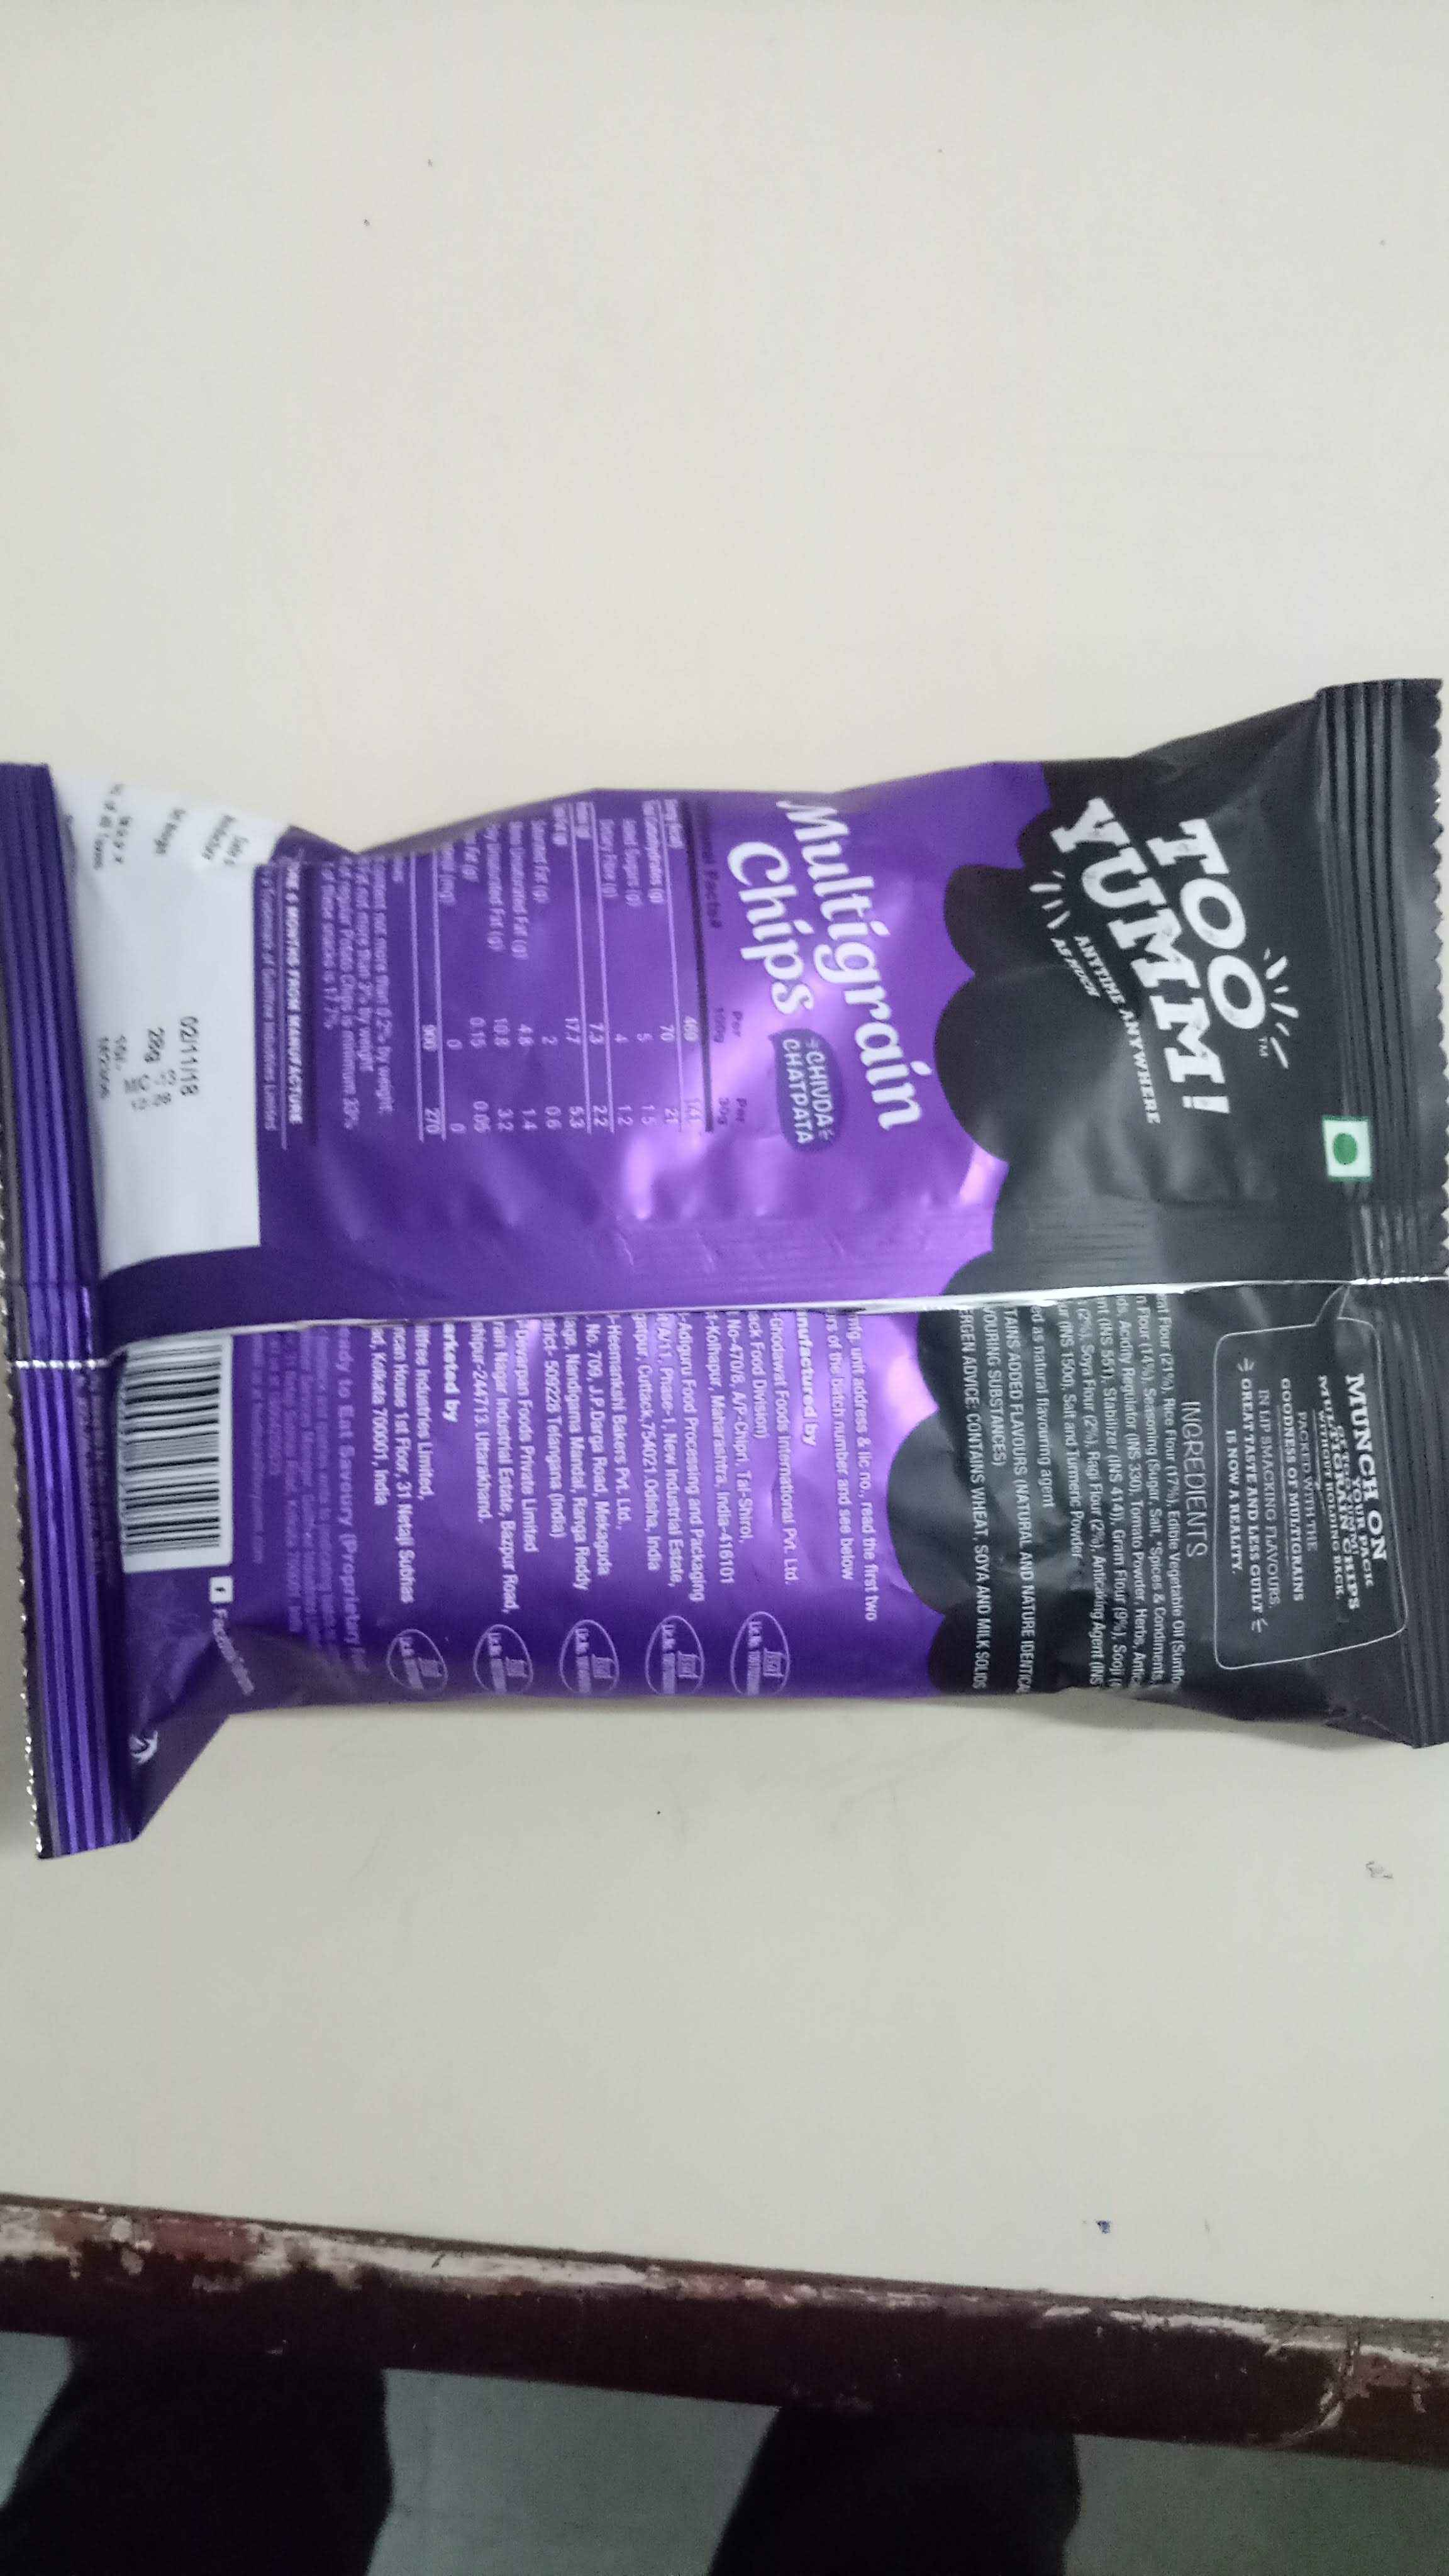tooyumm: (991, 787, 1290, 1161)
